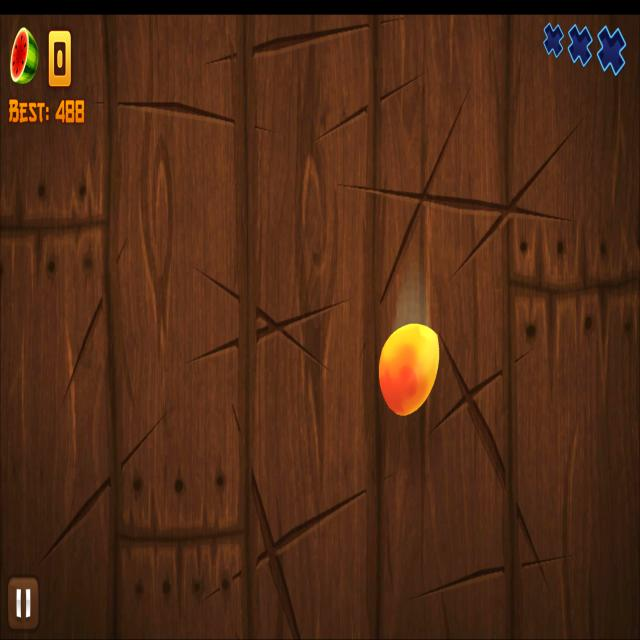fruit: (378, 321, 441, 418)
